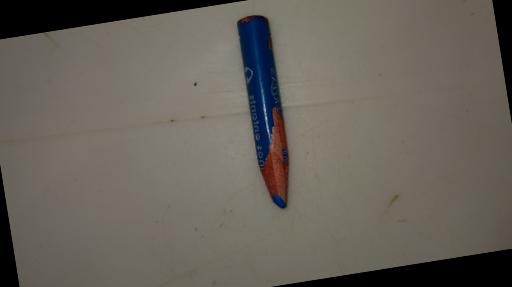Pencil: (236, 13, 295, 212)
